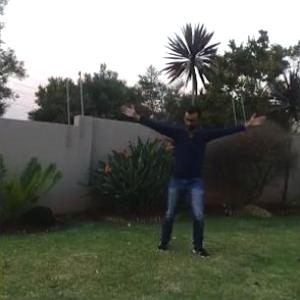takeoff: (134, 97, 272, 262)
